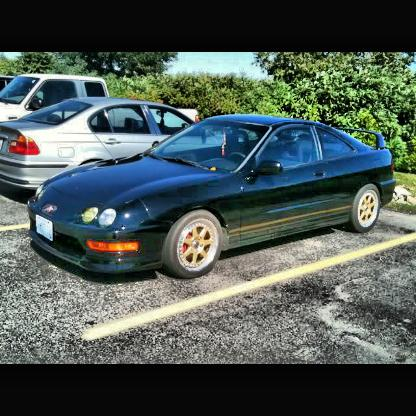Acura Integra Type R 2001: (28, 115, 398, 282)
